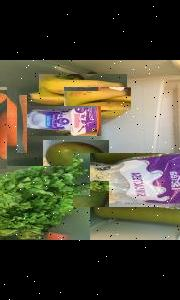Lechuga/Endivia: (0, 166, 88, 240)
Plátano: (38, 74, 126, 97), (63, 87, 130, 110)
Queso: (72, 153, 180, 207)
Yogur: (22, 107, 100, 136)
Zanahoria: (0, 87, 19, 169), (0, 95, 26, 153)
